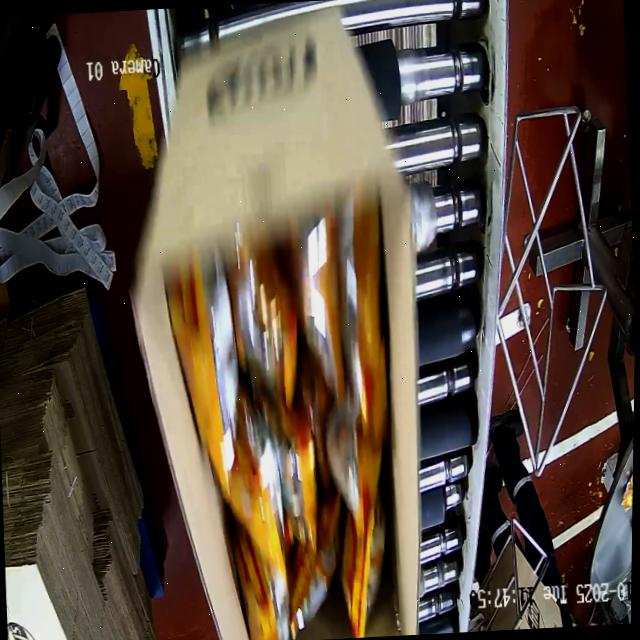FRENCH_CHEESE: (157, 216, 405, 640)
